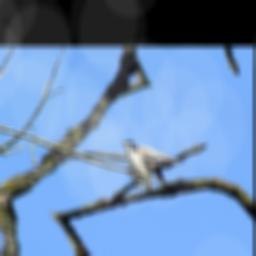Swallow: (104, 137, 186, 201)
